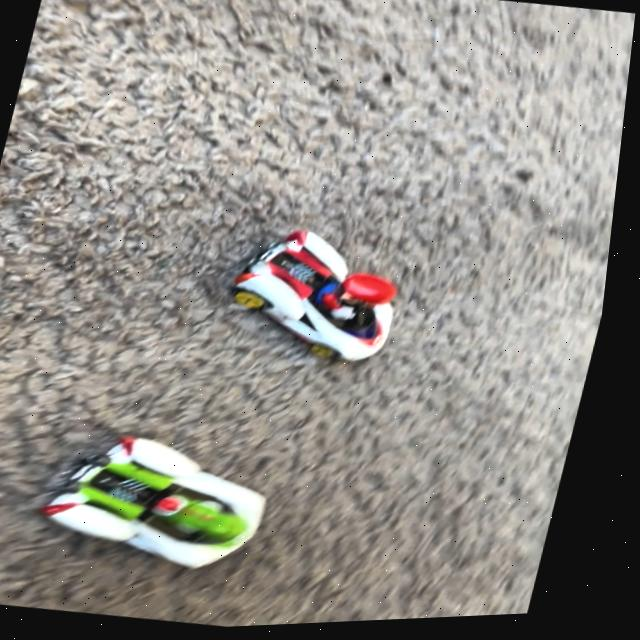mario: (211, 211, 440, 388)
yoshi: (27, 402, 314, 598)
